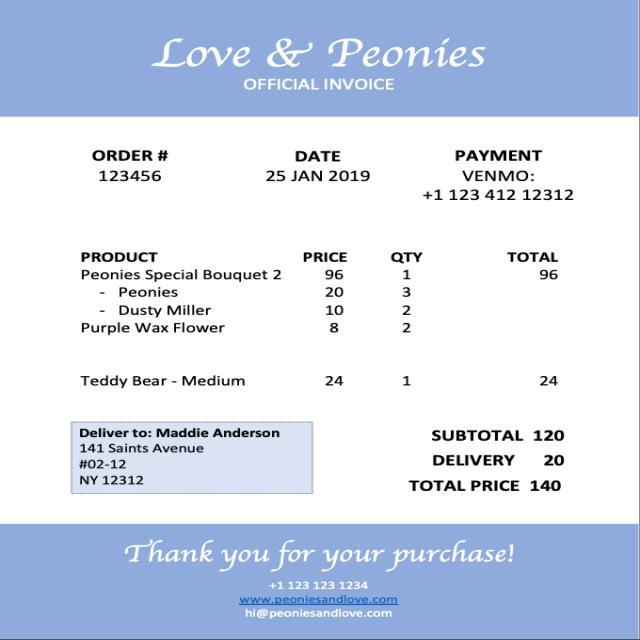customer_address: (73, 442, 215, 489)
customer_name: (154, 424, 284, 439)
invoice_date: (256, 166, 376, 186)
invoice_number: (95, 164, 163, 184)
invoice_subtotal: (530, 423, 572, 448)
invoice_total: (524, 473, 570, 497)
item_description: (63, 266, 287, 401)
item_quantity: (384, 265, 428, 393)
item_total_price: (530, 266, 564, 396)
item_unit_price: (304, 266, 354, 396)
supplier_name: (133, 30, 495, 74)
